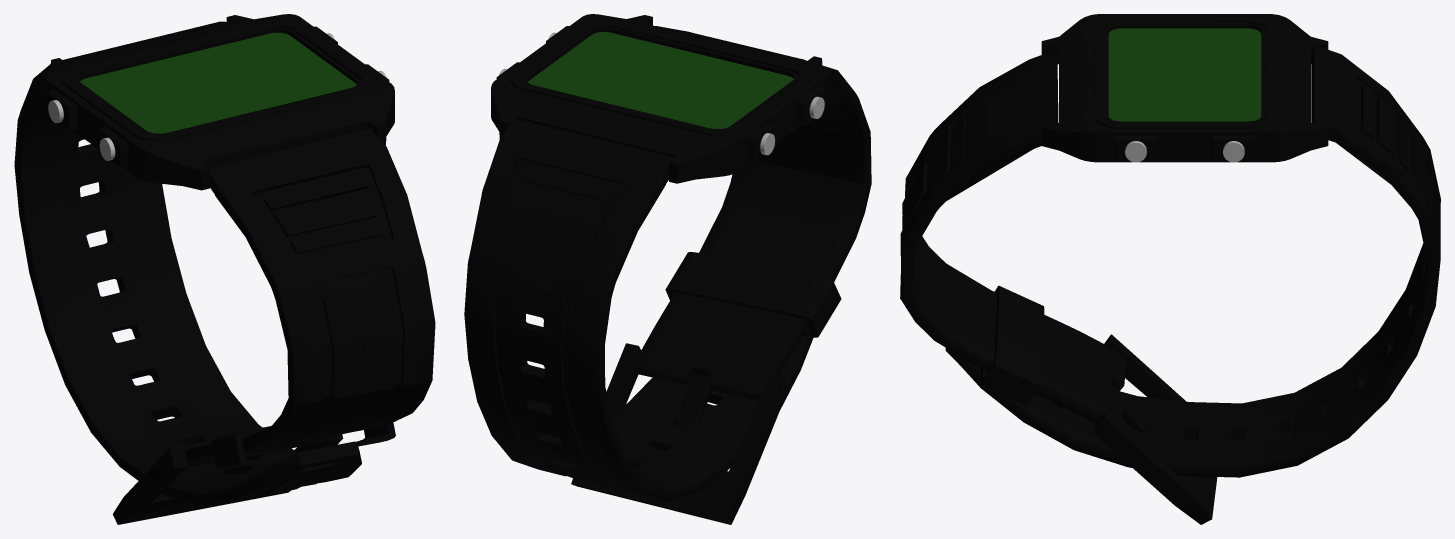
File: Clockfbx.fbx
3 renders of one model, left to right at view 1: azimuth 30°, elevation 25°; view 2: azimuth 150°, elevation 25°; view 3: azimuth 270°, elevation 25°, orthographic. The views are drawn at different scales.
Visible parts, largest first — view 1: Plane; view 2: Plane; view 3: Plane.
Part boxes in pixels (box(x1,y1,x2,y2)): Plane: box(14, 14, 435, 524); Plane: box(464, 14, 871, 524); Plane: box(900, 14, 1440, 524).
Size of the model in its own units: 218 by 330 by 387.
